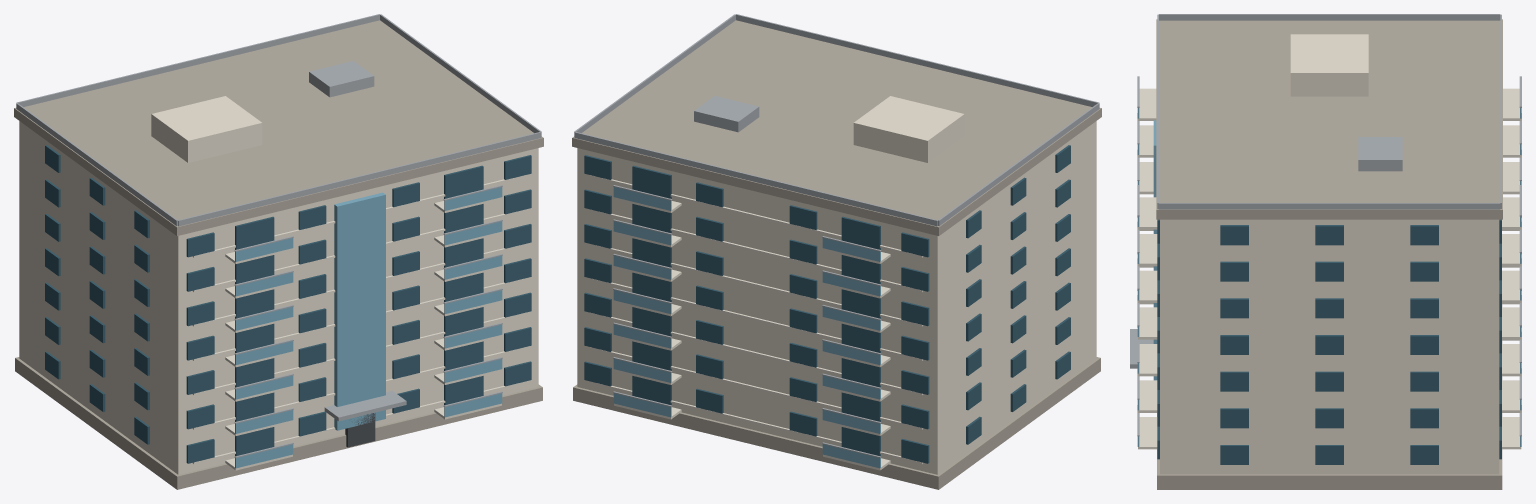
The model's file is midrise_a.glb.
3 views of the same model, side by side, from view 1: azimuth 30°, elevation 25°; view 2: azimuth 150°, elevation 25°; view 3: azimuth 270°, elevation 25° (orthographic). The views are drawn at different scales.
Visible parts, largest first — view 1: Merged_HeroPlaster, Merged_HeroStone, Merged_WindowGlassDark, Merged_FacadeGlass, Merged_PropsMetal, Merged_HeroTrim, mid_door; view 2: Merged_HeroPlaster, Merged_HeroStone, Merged_WindowGlassDark, Merged_PropsMetal, Merged_FacadeGlass, Merged_HeroTrim; view 3: Merged_HeroPlaster, Merged_HeroStone, Merged_WindowGlassDark, Merged_HeroTrim, Merged_PropsMetal, Merged_FacadeGlass.
Part boxes in pixels (x1,y1,x2,y2): Merged_HeroPlaster: [19, 96, 538, 474]; Merged_HeroStone: [14, 20, 543, 489]; Merged_WindowGlassDark: [45, 145, 531, 463]; Merged_FacadeGlass: [235, 187, 502, 468]; Merged_PropsMetal: [16, 14, 541, 458]; Merged_HeroTrim: [192, 175, 525, 470]; mid_door: [345, 413, 375, 447]; Merged_HeroPlaster: [577, 96, 1096, 474]; Merged_HeroStone: [572, 20, 1101, 489]; Merged_WindowGlassDark: [584, 145, 1070, 463]; Merged_PropsMetal: [574, 14, 1099, 458]; Merged_FacadeGlass: [613, 187, 880, 468]; Merged_HeroTrim: [590, 175, 923, 470]; Merged_HeroPlaster: [1160, 34, 1499, 474]; Merged_HeroStone: [1156, 19, 1502, 489]; Merged_WindowGlassDark: [1157, 219, 1501, 464]; Merged_HeroTrim: [1138, 88, 1521, 449]; Merged_PropsMetal: [1130, 14, 1521, 436]; Merged_FacadeGlass: [1137, 108, 1521, 446].
Size of the model in its own units: 34.6 by 25.7 by 30.04.
